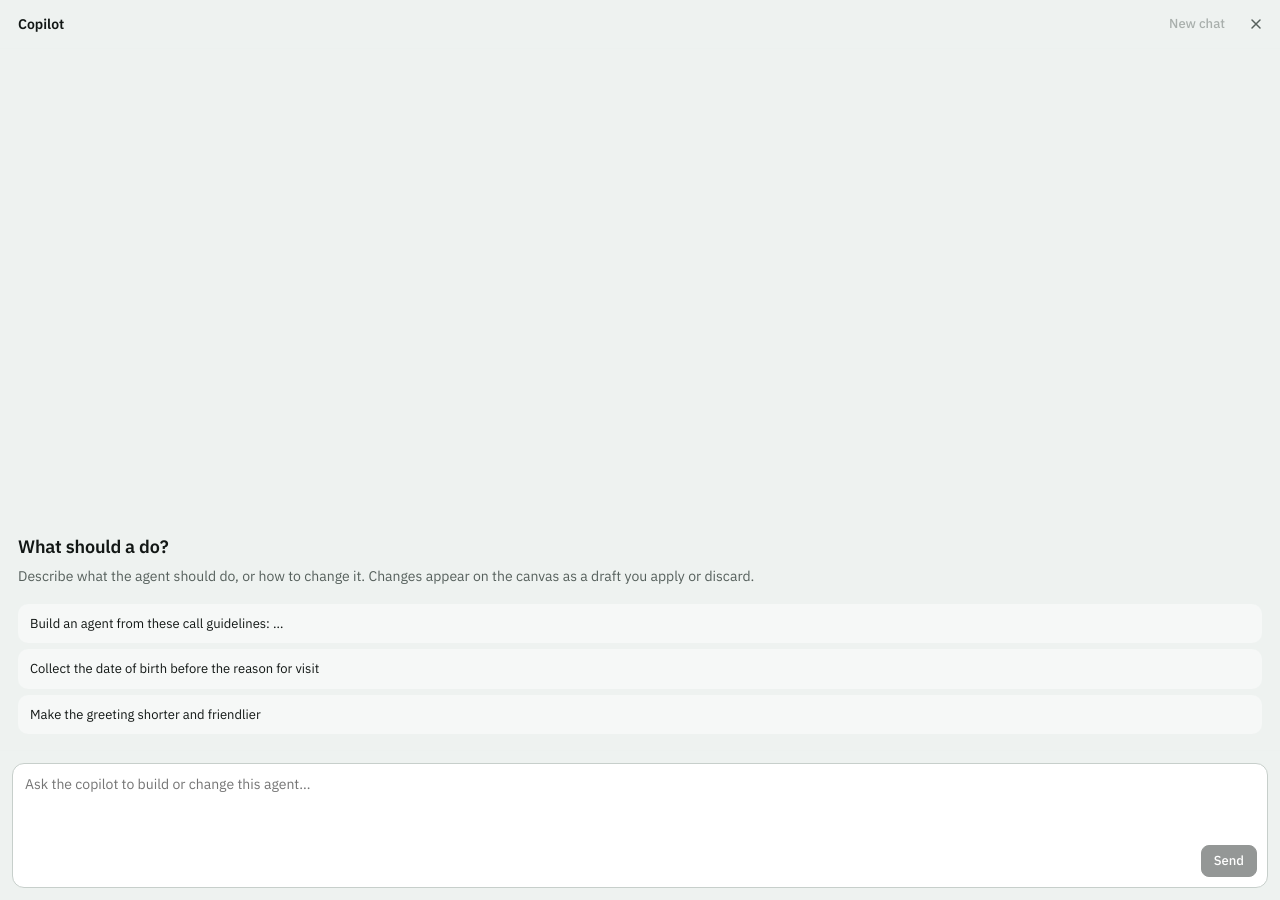
Scenario: CopilotPanel › explains how to set up the Claude login when the backend is unavailable
The width and height of the screenshot is (1280, 900).
Type "go" into the text box named "Message to the copilot". click: [640, 806]
box: 23,774 -> 1257,837
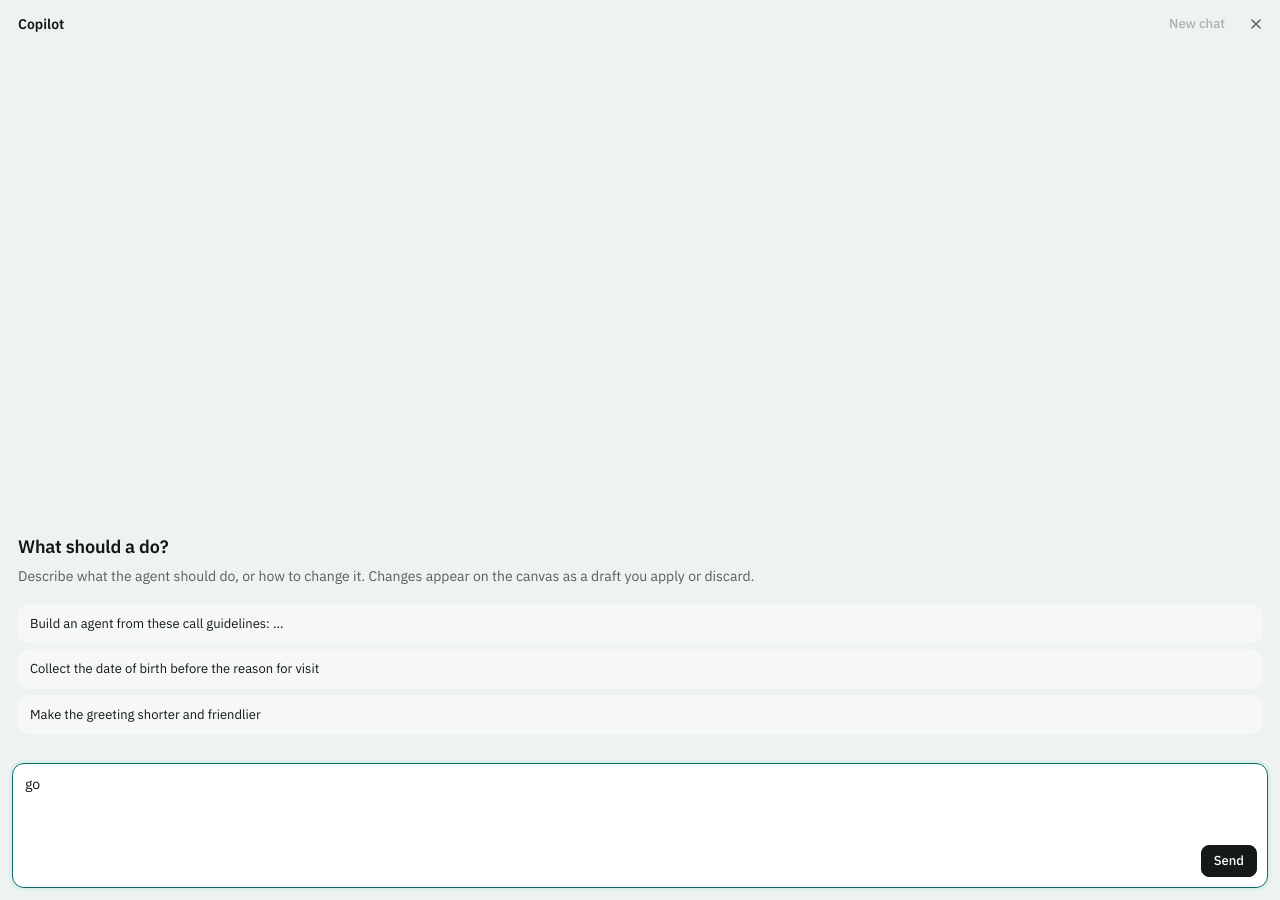
Click the button "Send". click: [1229, 861]
box: 1201,845 -> 1257,877
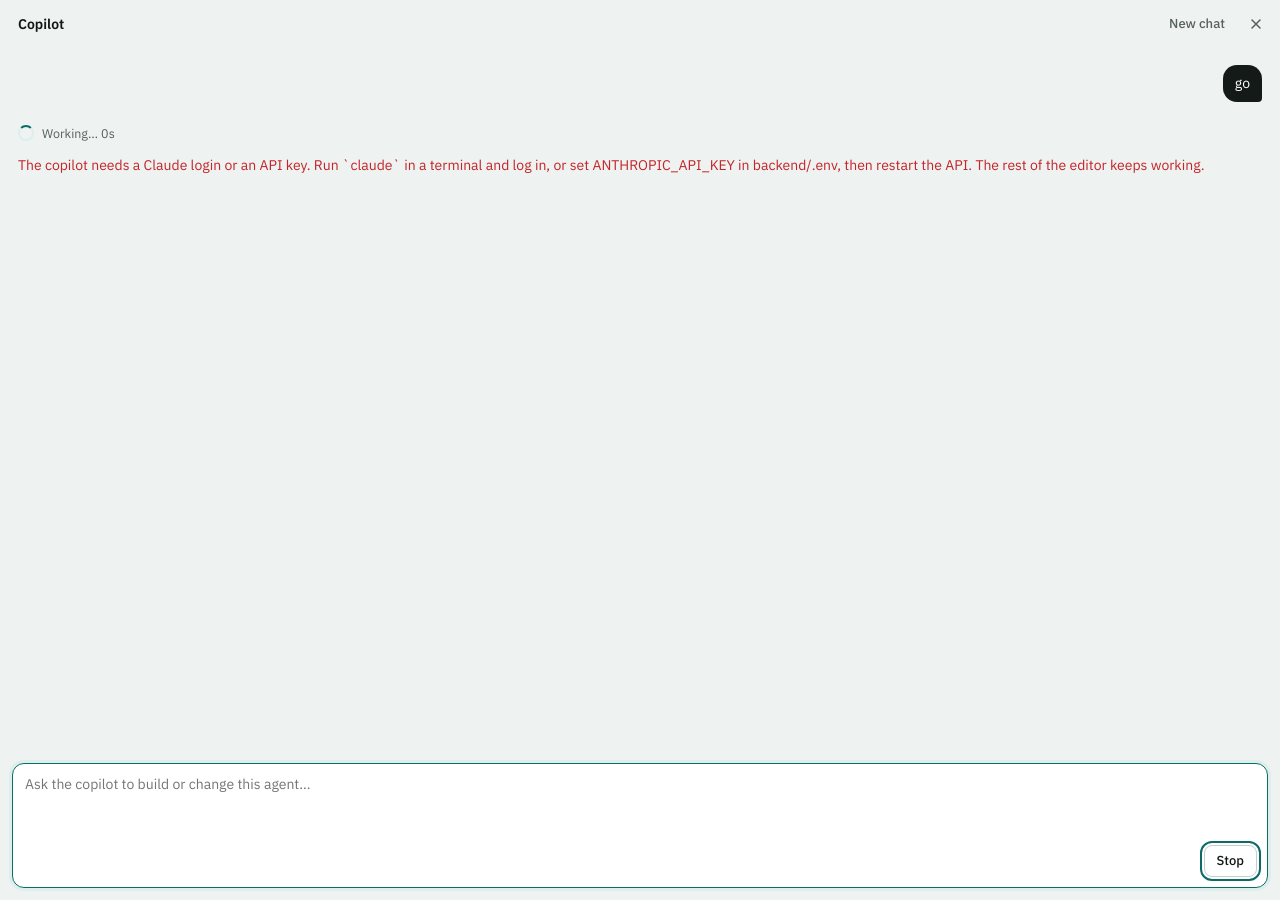
Check: the 2nd message shows "The copilot needs a Claude login or an API key. Run `claude` in a terminal and log in, or set ANTHROPIC_API_KEY in backend/.env, then restart the API. The rest", box 18,156 -> 1205,174
Check: the 2nd message shows "ANTHROPIC_API_KEY", box 18,156 -> 1205,174
Check: the 2nd message shows "Claude", box 18,156 -> 1205,174
